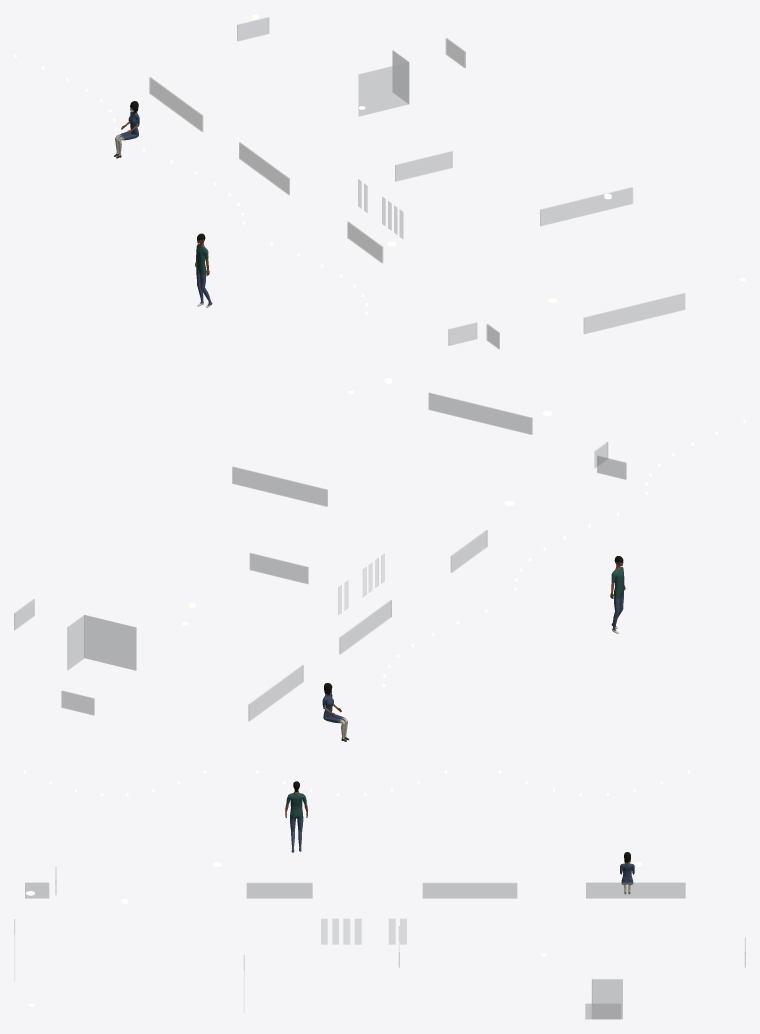
The model's file is second-fixtures.gltf.
3 views of the same model, one above another, from view 1: azimuth 30°, elevation 25°; view 2: azimuth 150°, elevation 25°; view 3: azimuth 270°, elevation 25° (orthographic). The views are drawn at different scales.
Visible parts, largest first — view 1: second.baked.glass.001, second.baked.flat.001; view 2: second.baked.glass.001, second.baked.flat.001; view 3: second.baked.glass.001, second.baked.flat.001, second.baked.glow.001.
Part boxes in pixels (x1=…): second.baked.glass.001: x1=149, y1=17, x2=685, y2=349; second.baked.flat.001: x1=114, y1=101, x2=212, y2=307; second.baked.glass.001: x1=14, y1=393, x2=626, y2=721; second.baked.flat.001: x1=322, y1=556, x2=625, y2=741; second.baked.glass.001: x1=14, y1=867, x2=745, y2=1019; second.baked.flat.001: x1=285, y1=781, x2=634, y2=894; second.baked.glow.001: x1=23, y1=770, x2=689, y2=1006.
Size of the model in its own units: 4.17 by 0.9644 by 6.64.
